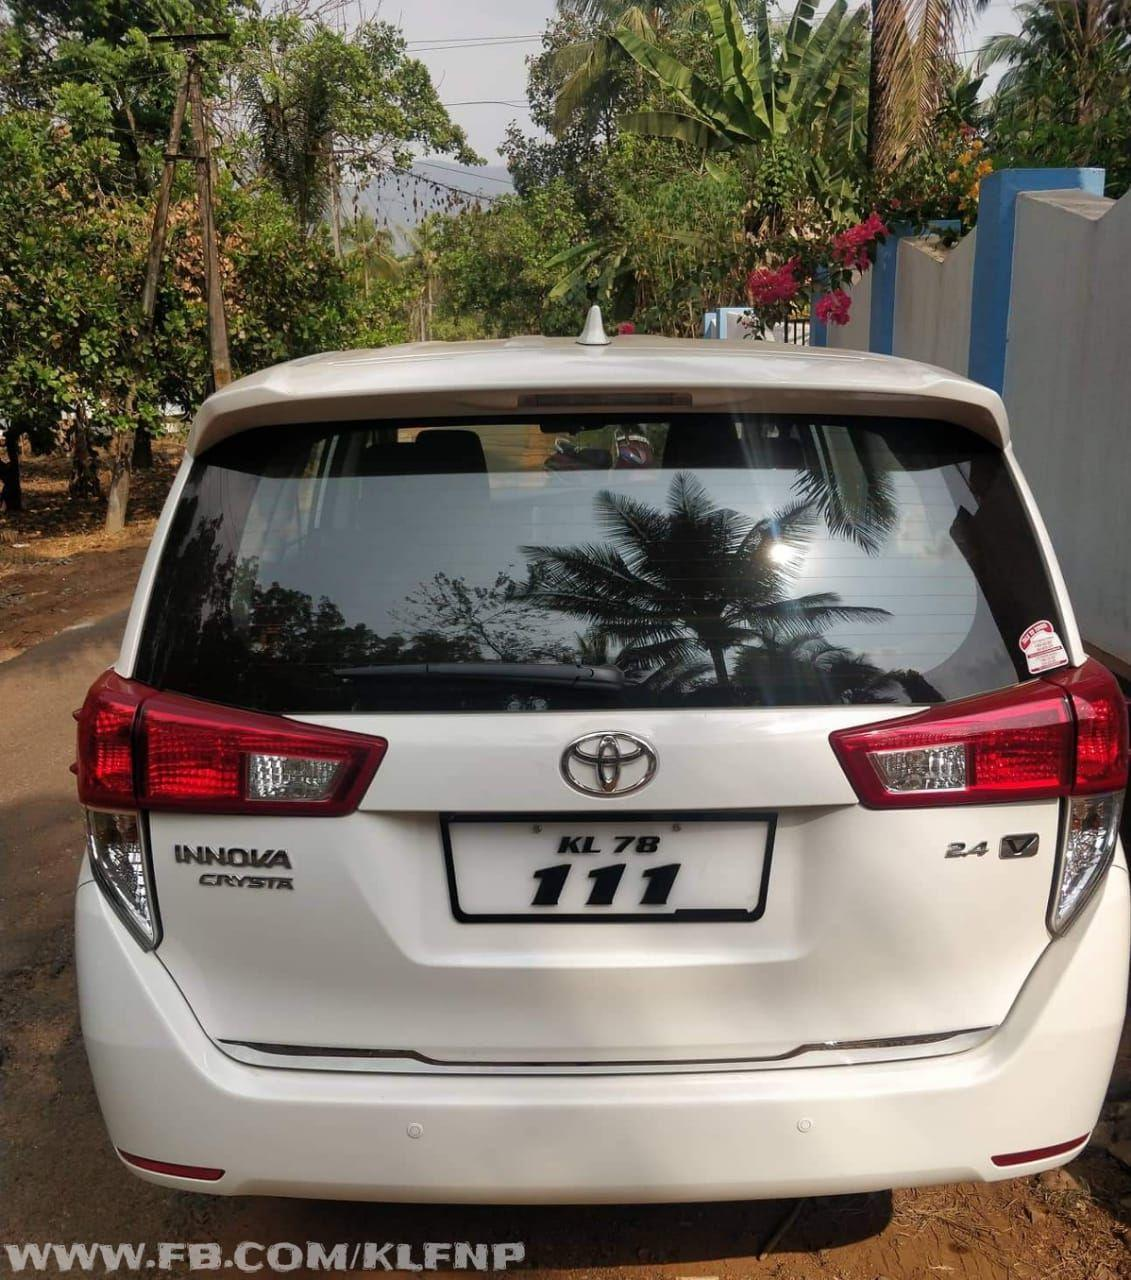licence-plate: (449, 821, 769, 918)
